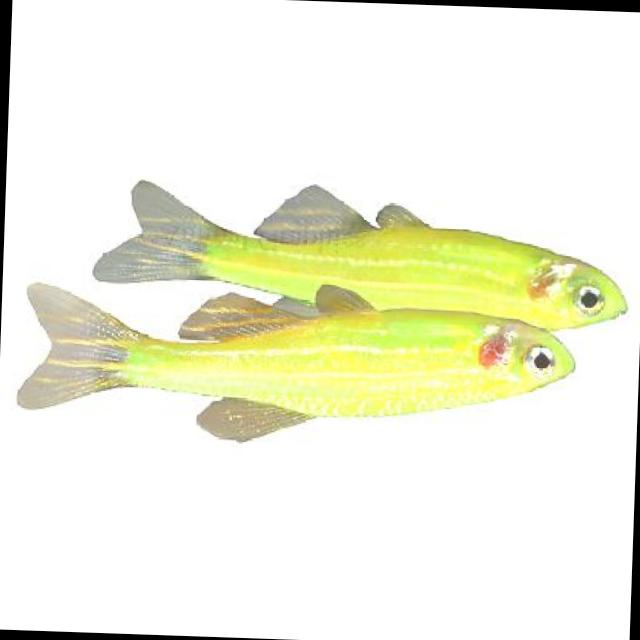ZebraFish: (4, 273, 580, 452), (105, 182, 632, 328)
